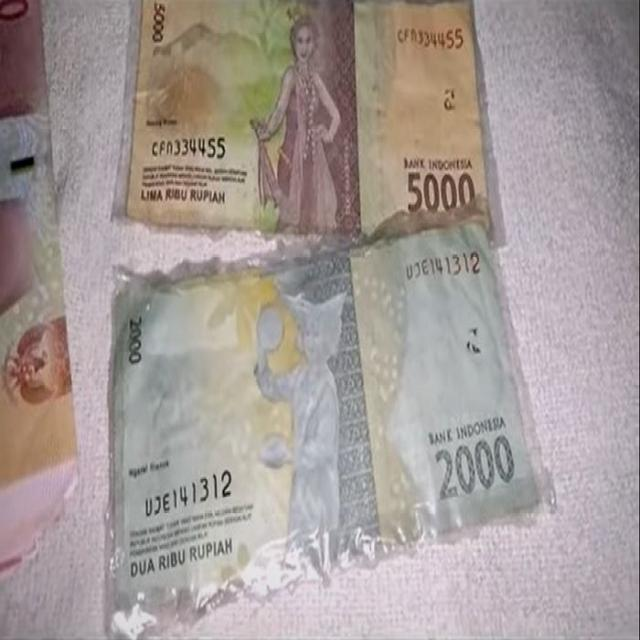dua ribu rupiah: (121, 217, 543, 599), (264, 280, 348, 560), (406, 406, 526, 509)
lima ribu rupiah: (126, 0, 488, 229), (276, 1, 340, 228), (376, 148, 478, 209)
